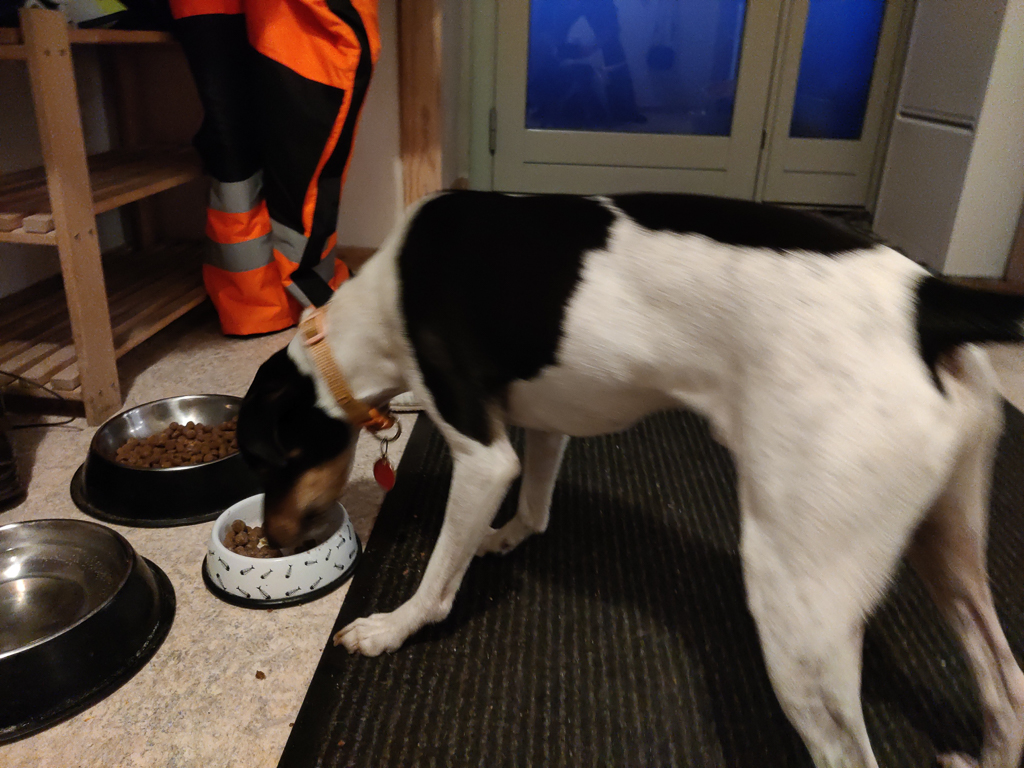Dog: (217, 151, 1024, 768)
